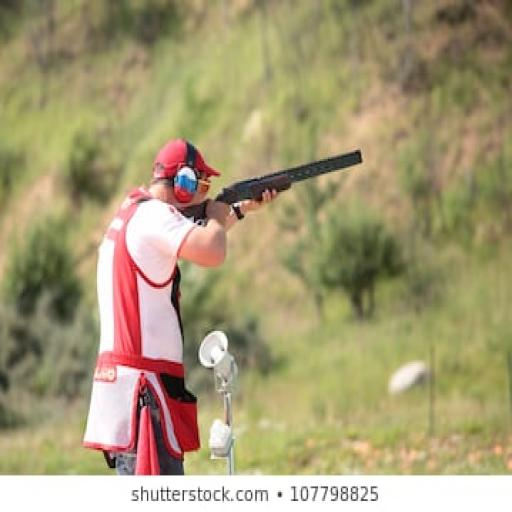shooting: (80, 136, 284, 476)
